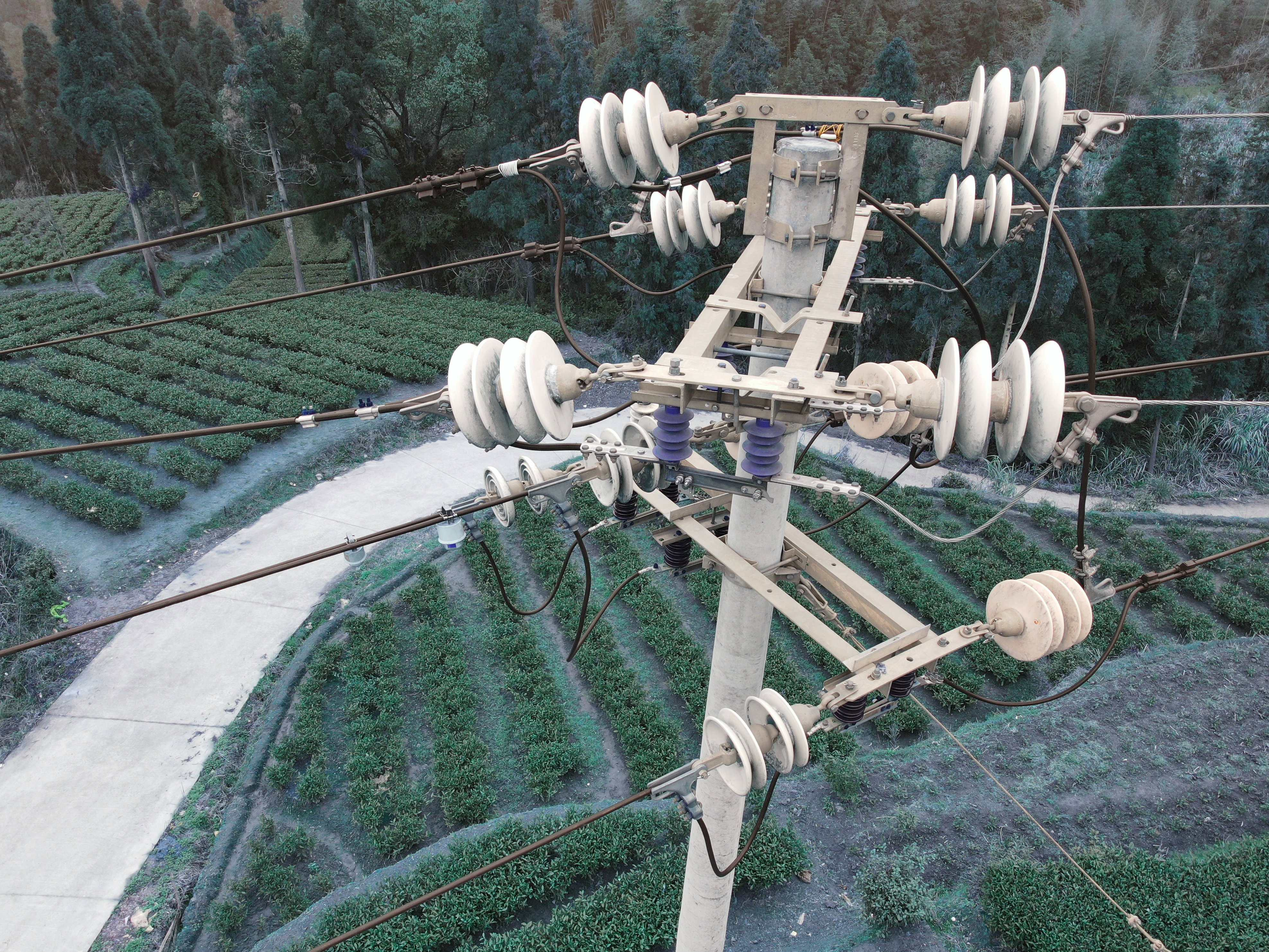severe_soiling_no_discharge_whole: (901, 333, 1070, 467), (443, 330, 588, 444), (936, 60, 1067, 172), (576, 78, 700, 189), (701, 686, 817, 795), (981, 568, 1093, 659), (844, 359, 941, 442), (919, 168, 1015, 249), (647, 179, 732, 254), (480, 456, 547, 526), (582, 459, 660, 507)
